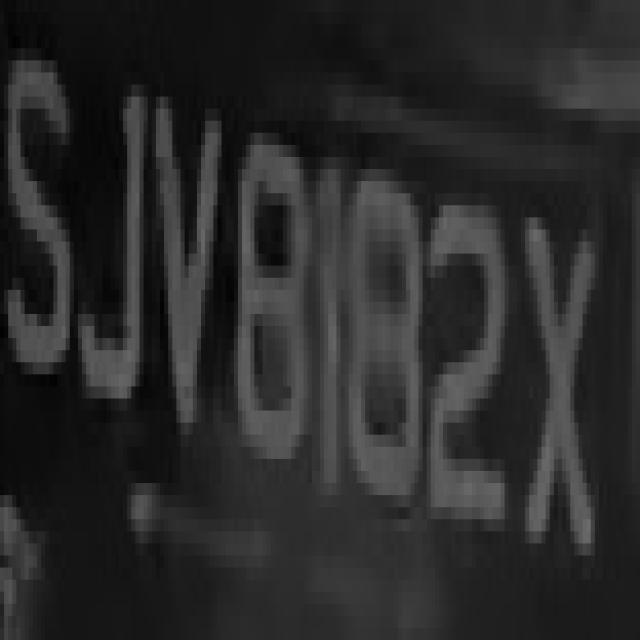1: (299, 145, 357, 531)
2: (427, 181, 517, 544)
8: (349, 133, 439, 519), (234, 109, 312, 531)
J: (78, 48, 156, 411)
S: (4, 36, 78, 399)
V: (152, 48, 230, 471)
X: (505, 169, 611, 568)
